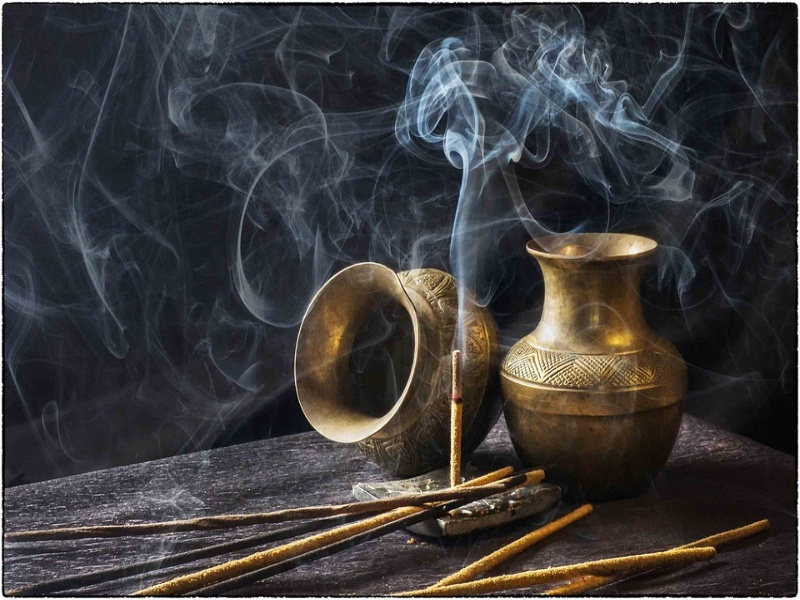smoke: (335, 6, 731, 224)
